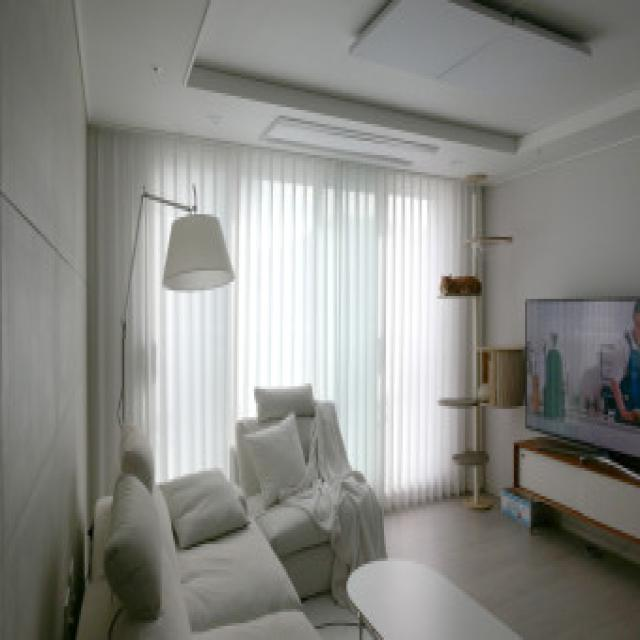Sofa: (75, 425, 324, 640), (240, 384, 378, 571)
Table: (343, 547, 523, 640)
tv: (523, 294, 640, 453)
window: (91, 126, 484, 420)
